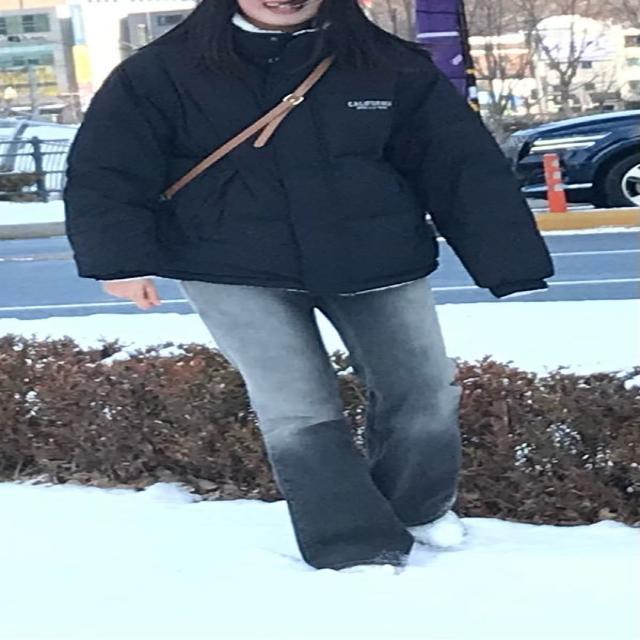denimpants: (171, 272, 462, 572)
padding: (59, 14, 553, 302)
